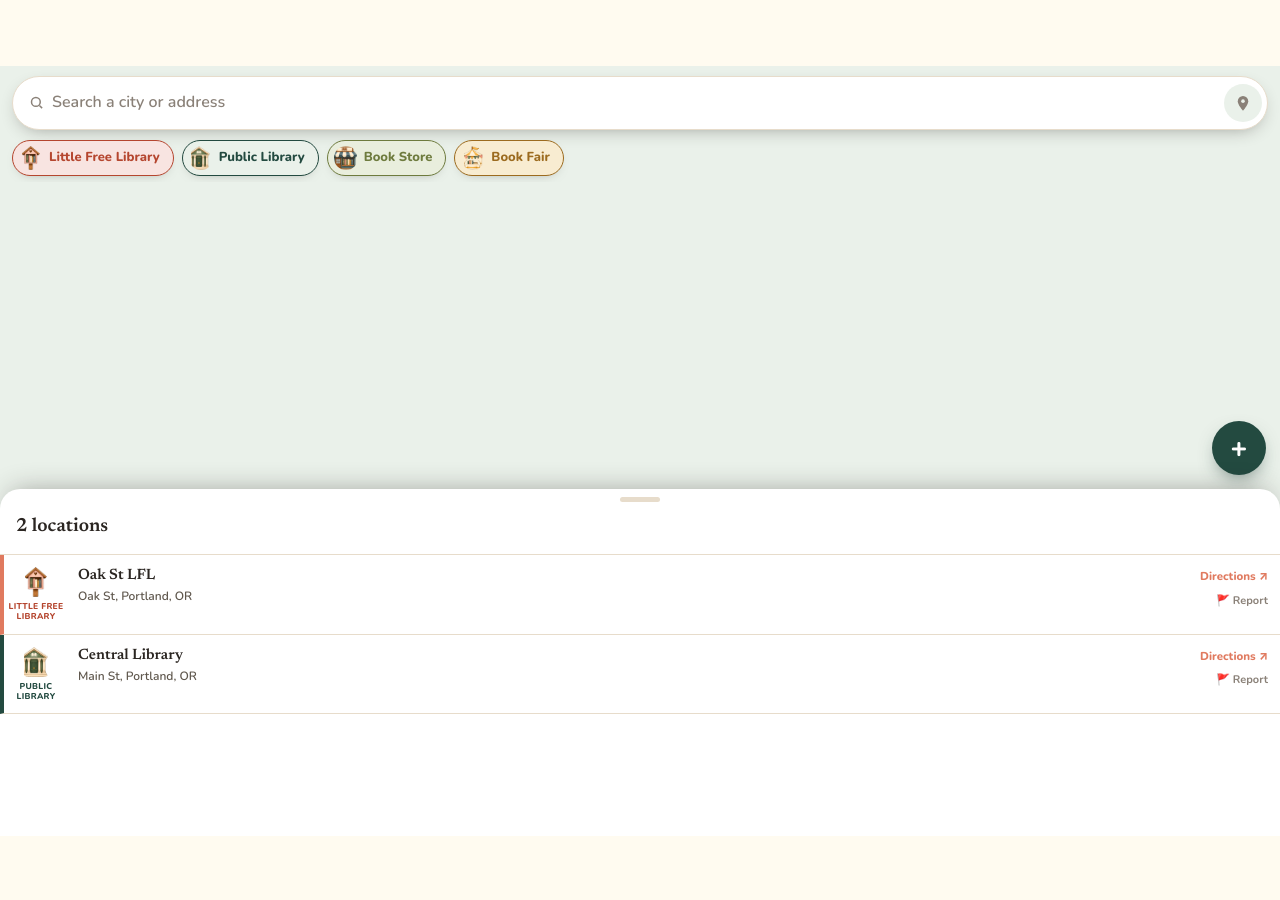
Reading Trail on mobile › filter chips toggle location types
Click the button "Little Free Library" at (93, 158), box left=12, top=140, right=174, bottom=176
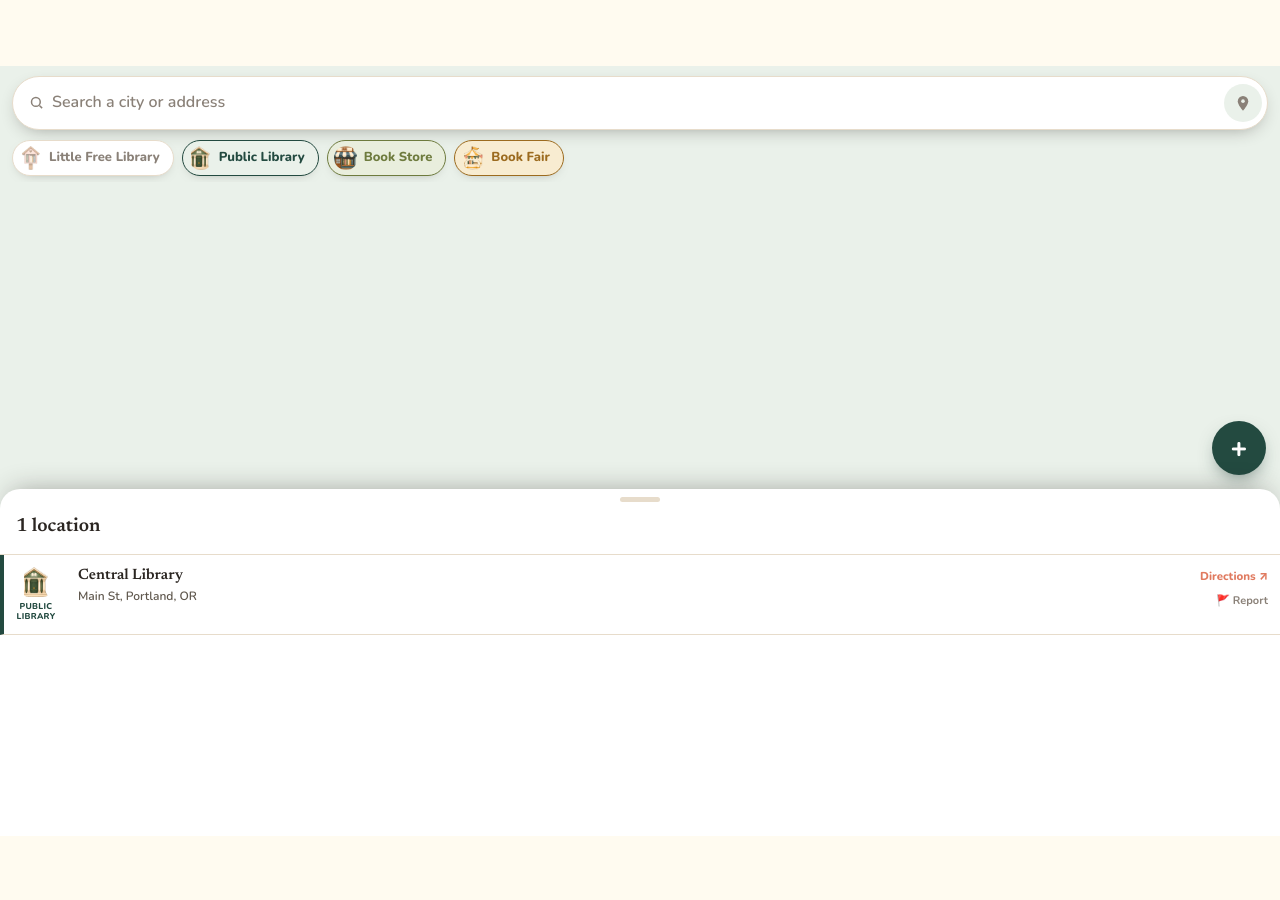
Now the text "1 location" is shown, box left=16, top=512, right=100, bottom=542
Now the text "Oak St LFL" is gone
